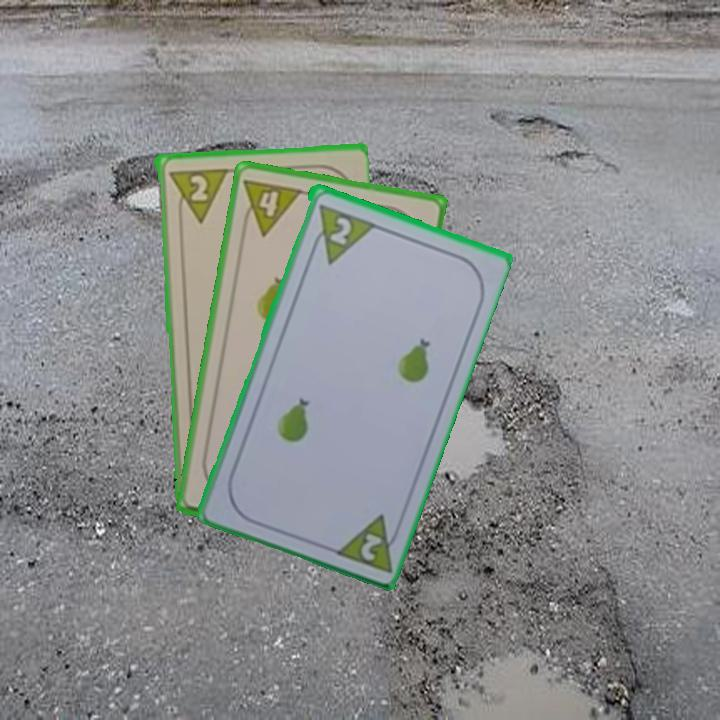2p: (164, 164, 228, 226), (325, 212, 354, 248), (356, 528, 385, 564)
4p: (237, 175, 305, 239)
